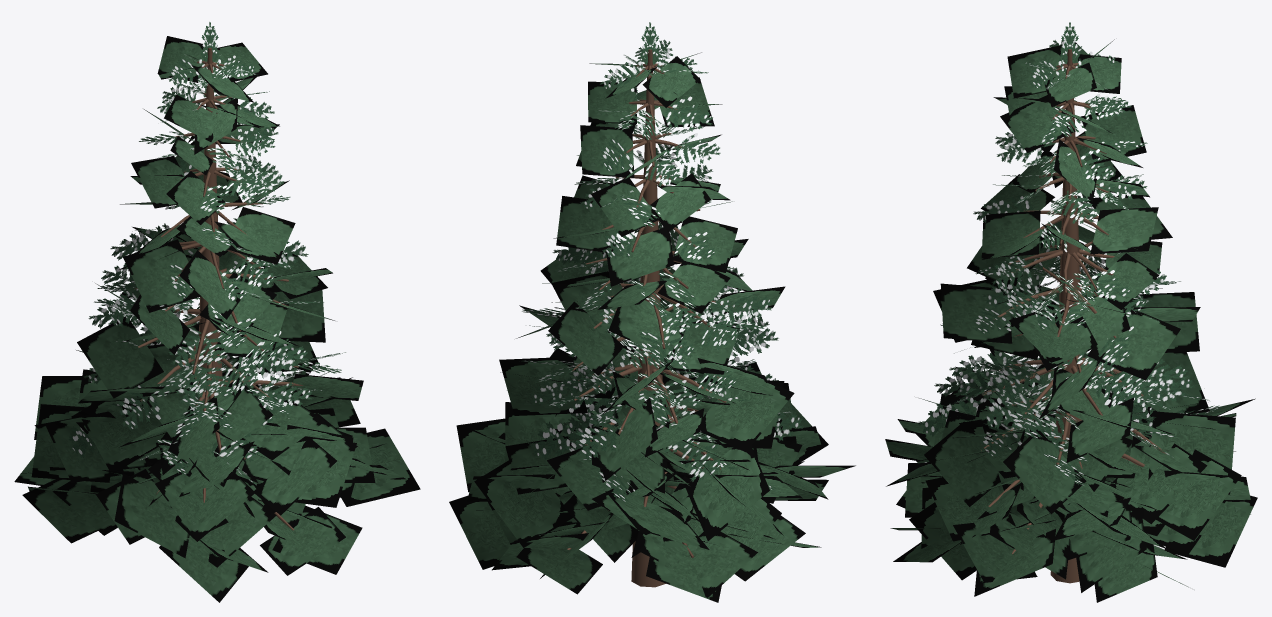
The model's file is snow_pine_2.glb.
3 views of the same model, side by side, from view 1: azimuth 30°, elevation 25°; view 2: azimuth 150°, elevation 25°; view 3: azimuth 270°, elevation 25° (orthographic). The views are drawn at different scales.
Visible parts, largest first — view 1: snow_pine_2; view 2: snow_pine_2; view 3: snow_pine_2.
Part boxes in pixels (box(x1,y1,x2,y2)): snow_pine_2: box(14, 22, 420, 602); snow_pine_2: box(449, 22, 855, 602); snow_pine_2: box(885, 22, 1257, 602).
Size of the model in its own units: 6.63 by 10.13 by 6.18.
Materials: 3 (2 with a texture image).
